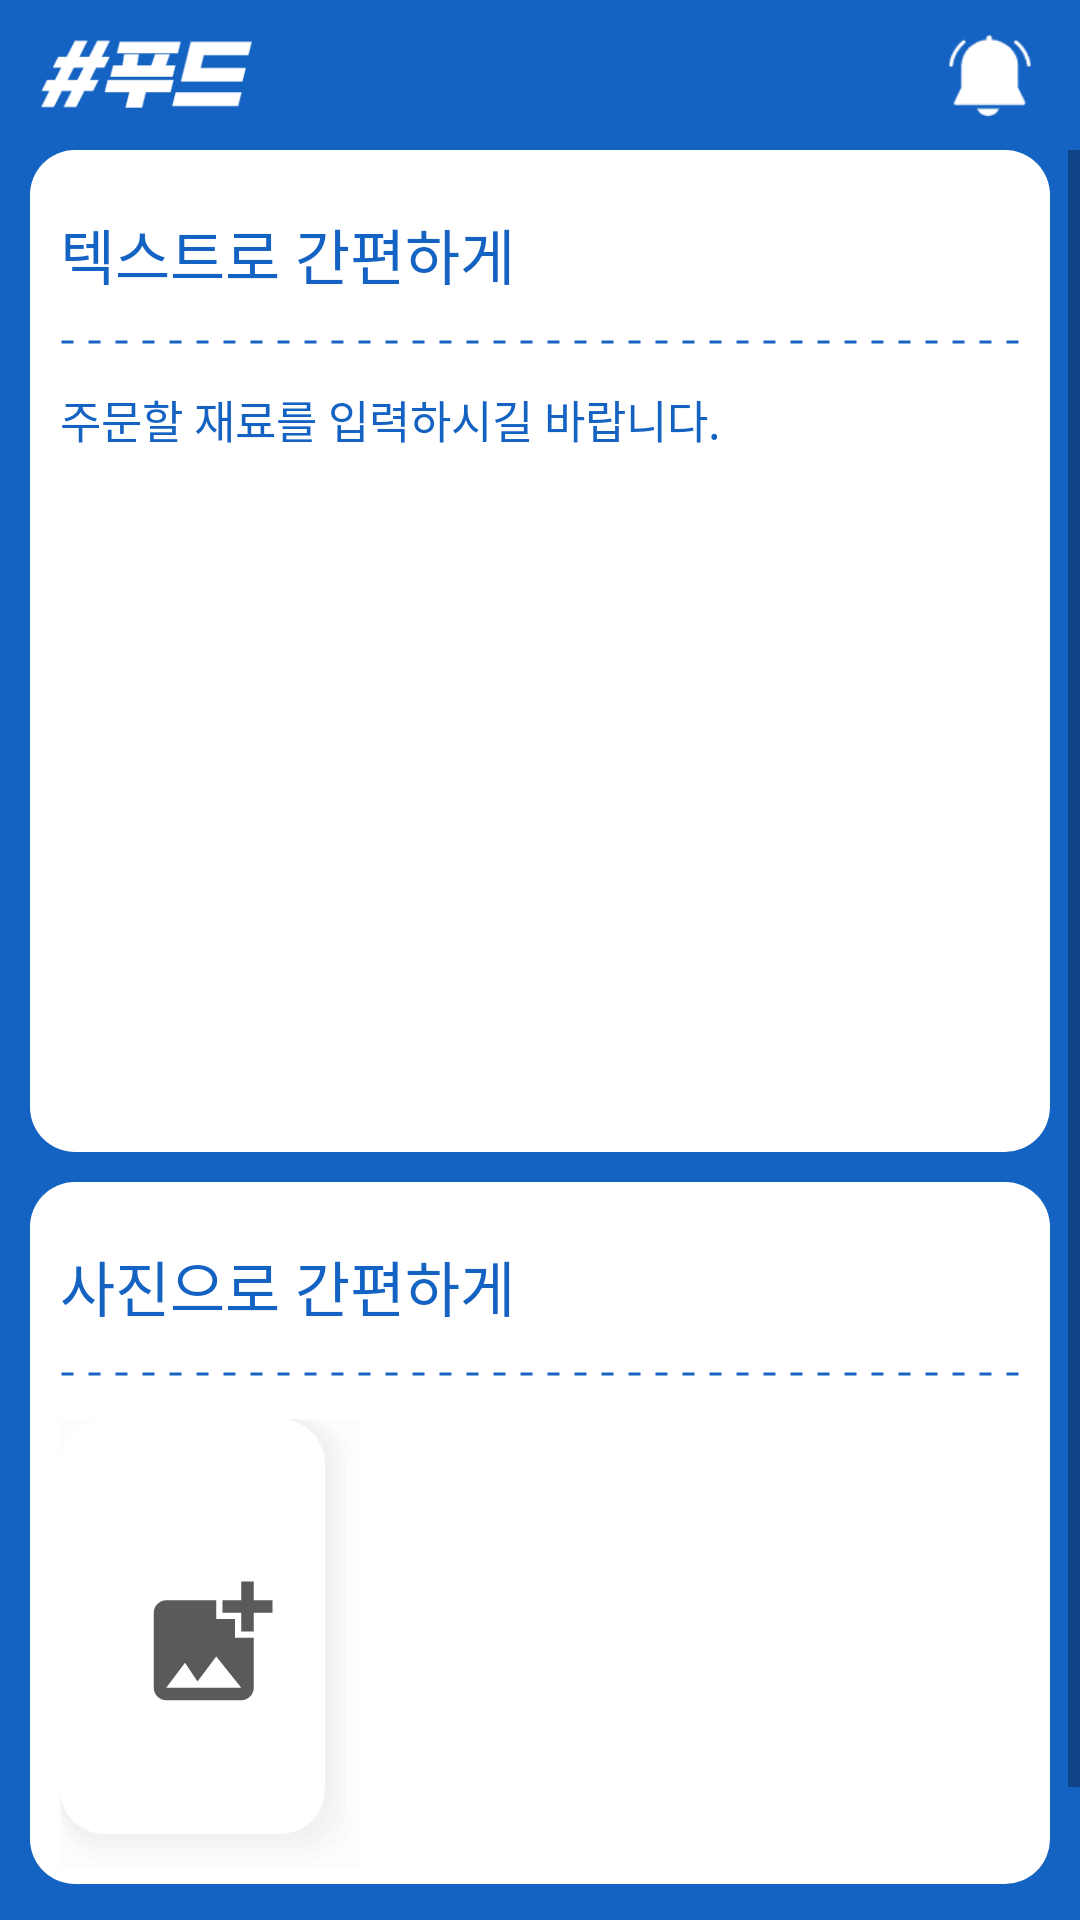

Icons on this 1080 x 1920 Android screen, each with its box as Rect(x1, y1, x2, y2):
alarm: Rect(949, 35, 1031, 116)
insert photo: Rect(153, 1581, 273, 1701)
